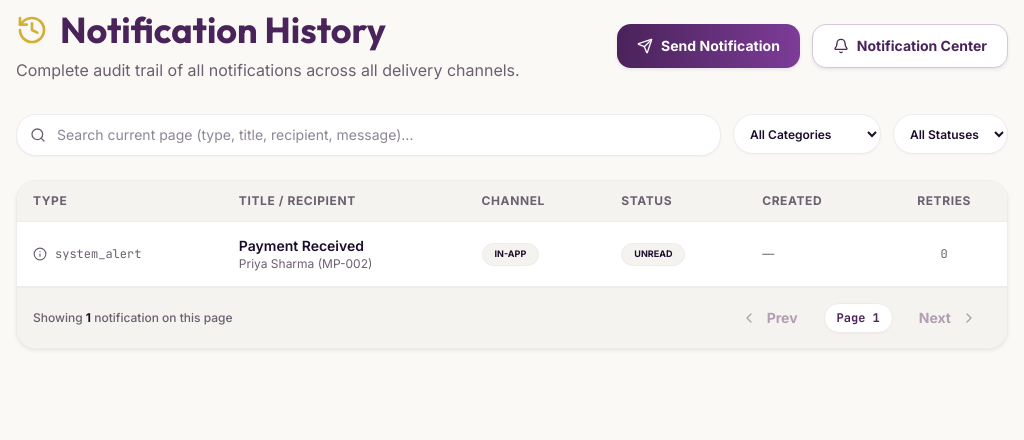
NotificationHistoryPage › shows raw recipient UID only inside expanded technical details
This screenshot has width=1024, height=440.
Expected: the text "Recipient UID:" is not shown
// Click row to expand technical details
Click the row that starts with "system_alert" at (512, 254), box [17,222,1007,286]
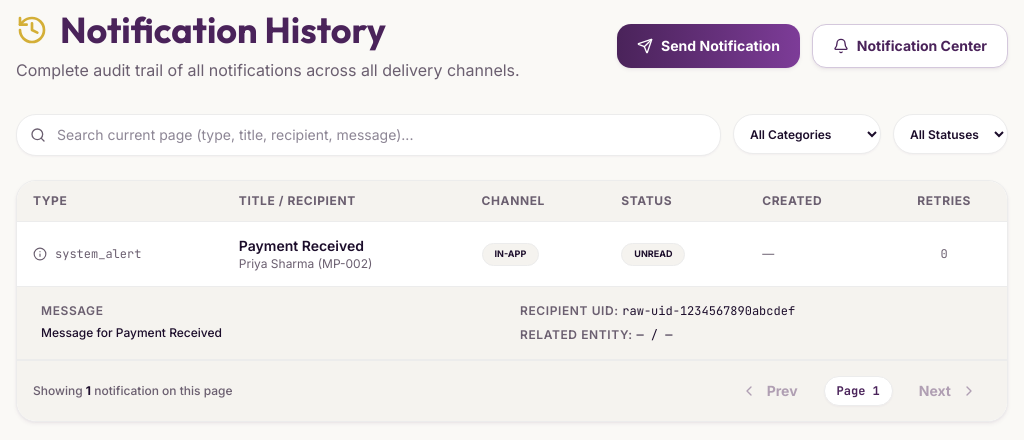
Result: the text "Recipient UID:" is shown at [520,303,622,318]
Result: the text "raw-uid-1234567890abcdef" is shown at [622,303,795,319]
